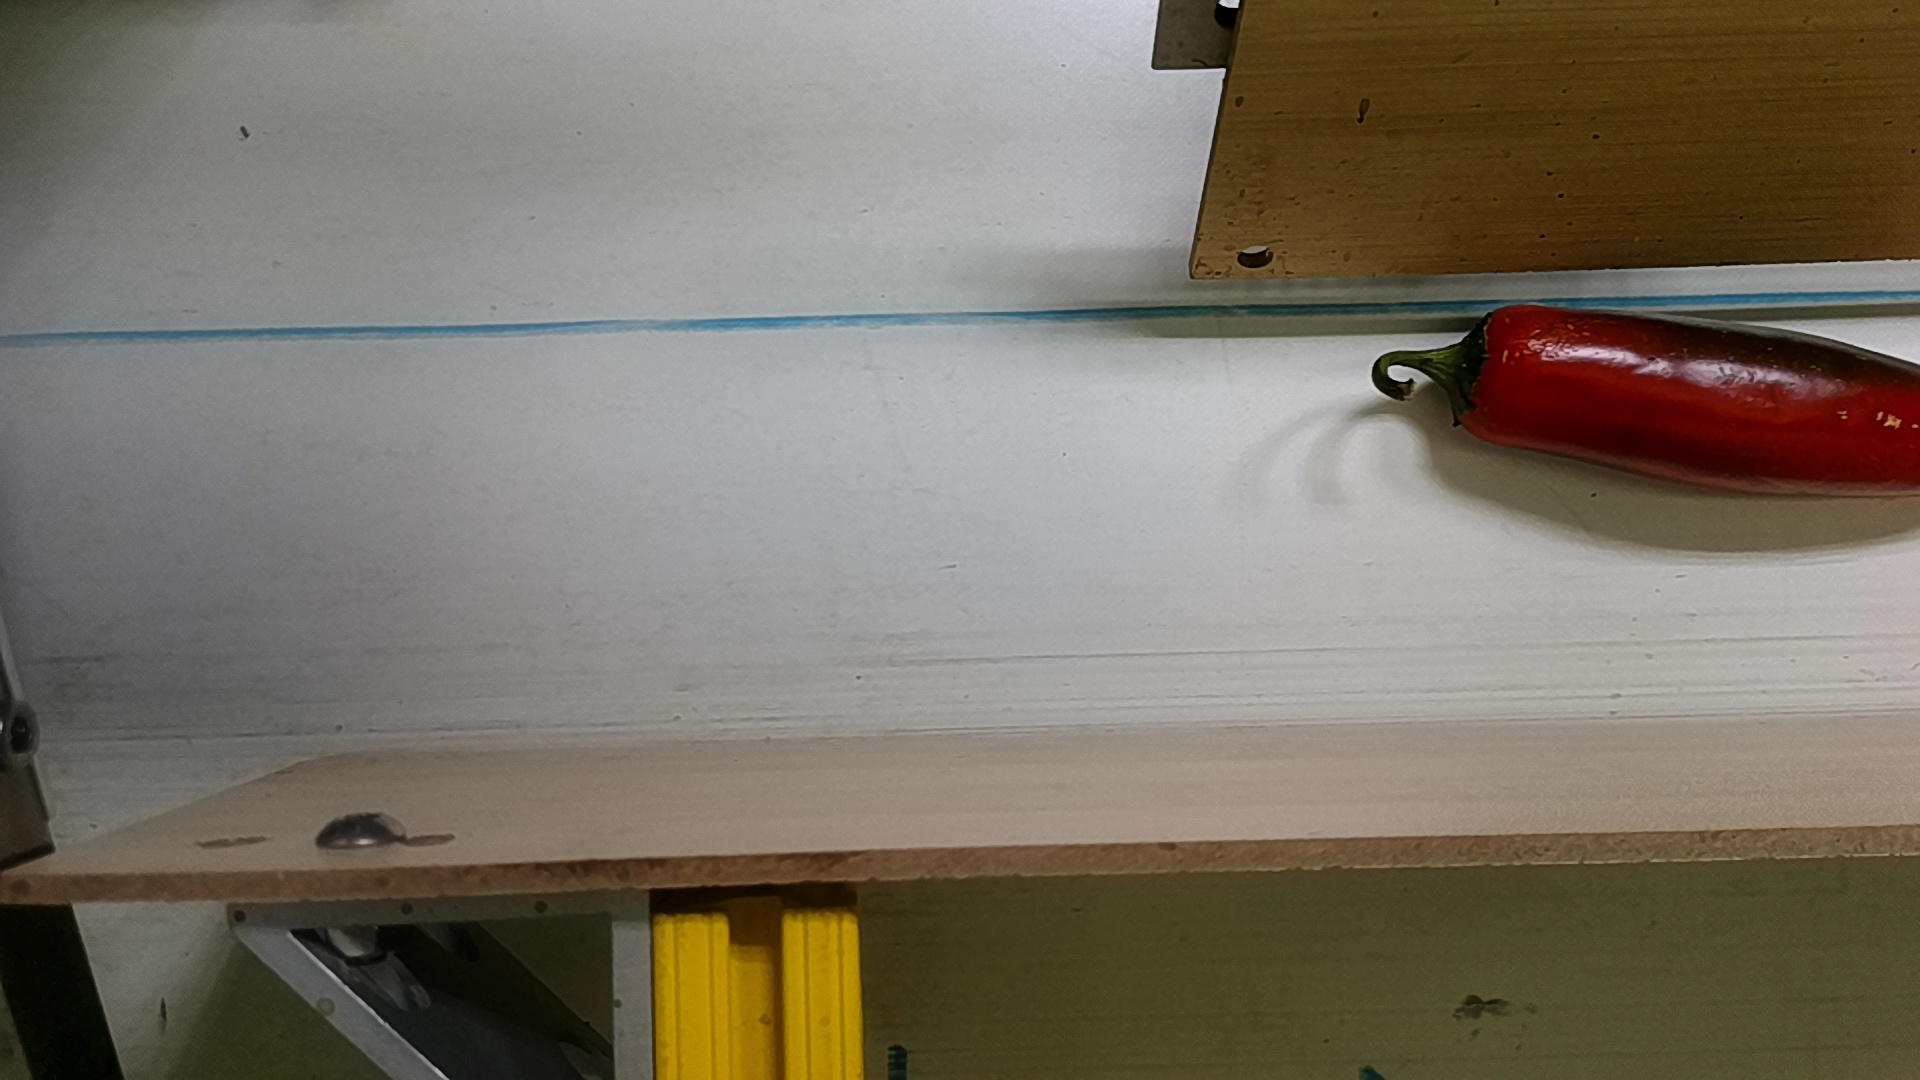Cut Point: (1433, 301, 1540, 454)
